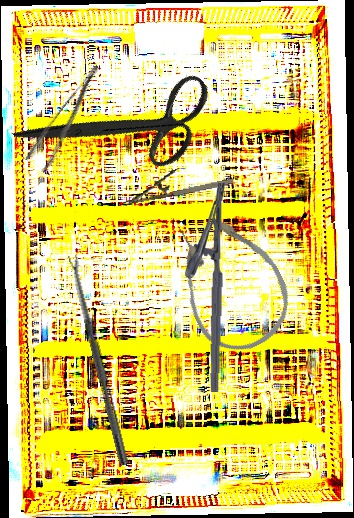Cannula: (156, 197, 305, 365)
Dressing Forceps: (22, 63, 116, 174)
Iris Scissors: (11, 19, 232, 231)
Needle Holder: (179, 181, 228, 393), (119, 159, 234, 207)
Surgical Spoon: (68, 253, 130, 467)
